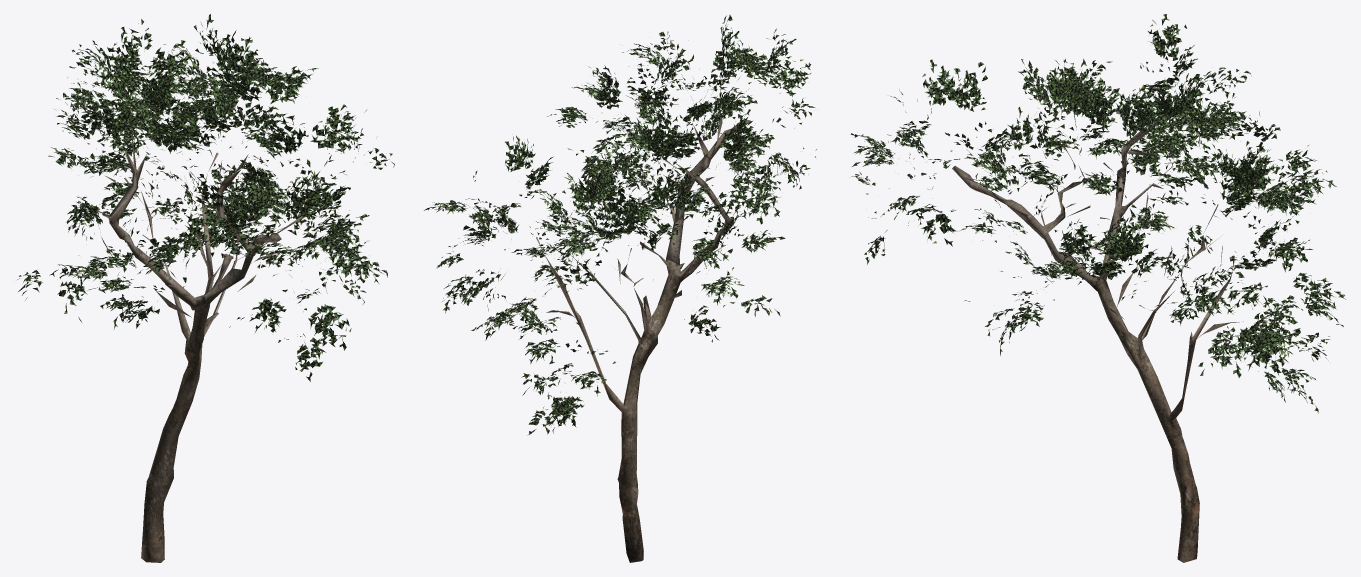
File: orchard-tree-mobile.glb
The picture shows the model from 3 angles, left to right: view 1: azimuth 30°, elevation 25°; view 2: azimuth 150°, elevation 25°; view 3: azimuth 270°, elevation 25°; orthographic projection. The views are drawn at different scales.
Visible parts, largest first — view 1: tree_small_02_LOD0; view 2: tree_small_02_LOD0; view 3: tree_small_02_LOD0.
Part boxes in pixels (x1,y1,x2,y2): tree_small_02_LOD0: (17, 14, 394, 562); tree_small_02_LOD0: (424, 14, 816, 562); tree_small_02_LOD0: (851, 14, 1345, 562).
Size of the model in its own units: 2.89 by 4.54 by 4.06.
Materials: 3 (3 with a texture image).
